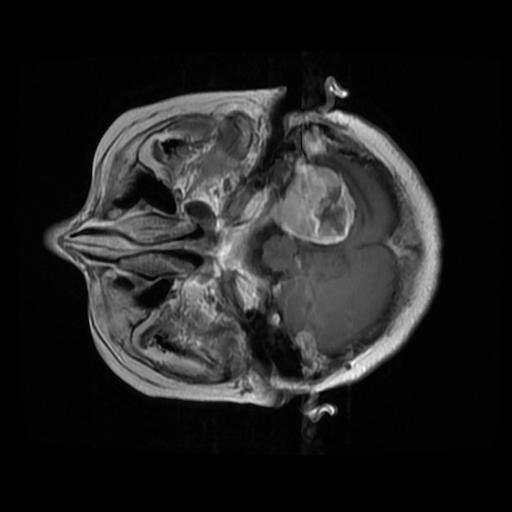meningioma: (271, 153, 354, 246)
